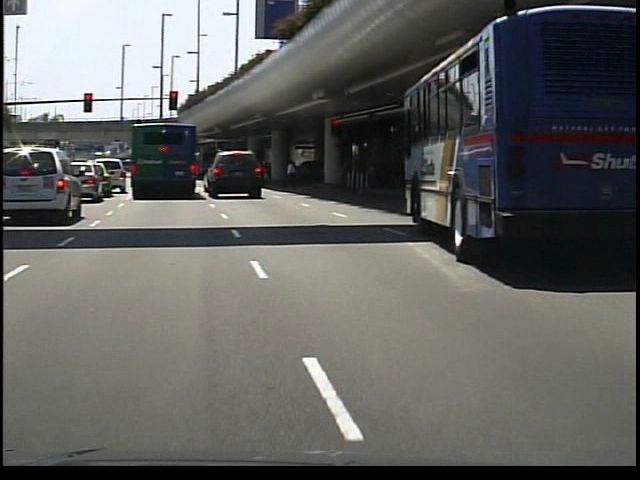person: (283, 156, 303, 193)
